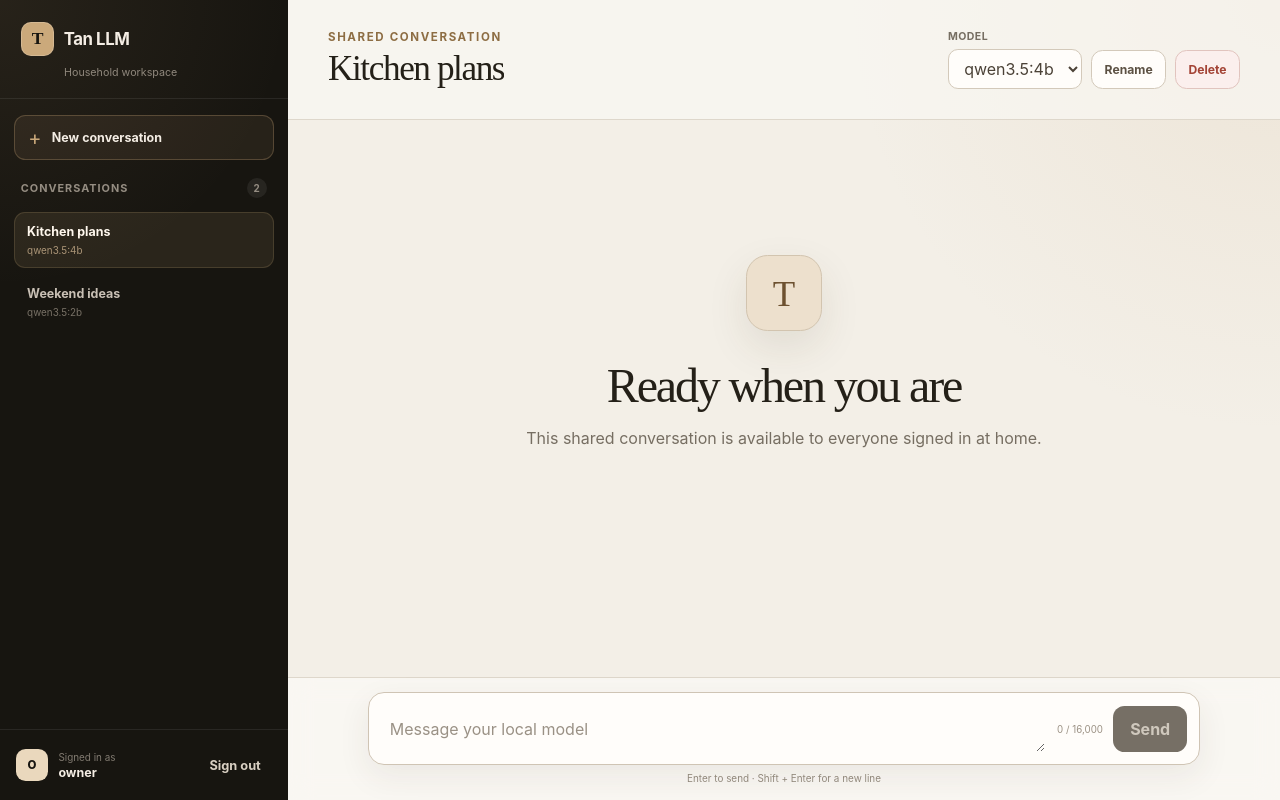
it: shared conversation management › stops the originating browser's active response
Expected: the heading "Ready when you are" is shown, [607,358,961,413]
Type "Start a response" into the text box labelled "Message" at coordinates (713, 729), box [381,705,1045,752]
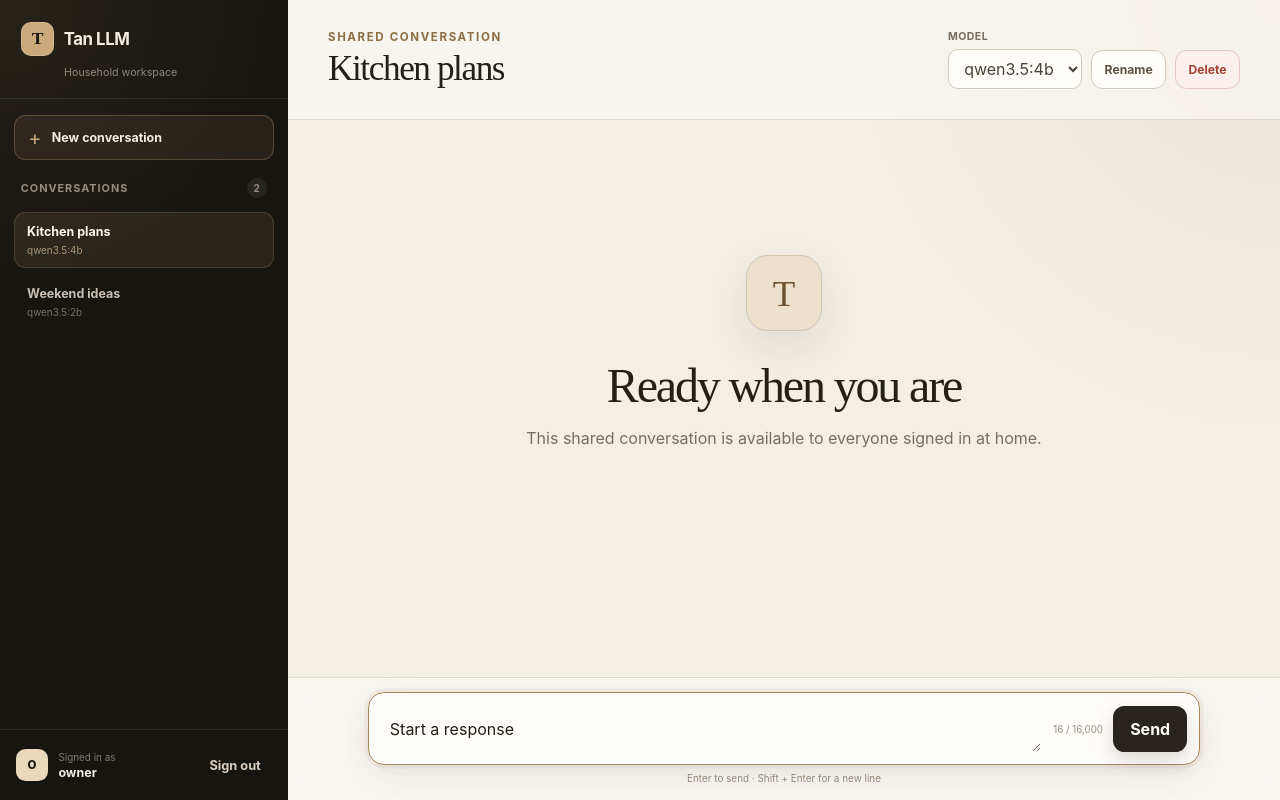
Click the button "Send" at coordinates (1150, 729), box [1113,706,1187,752]
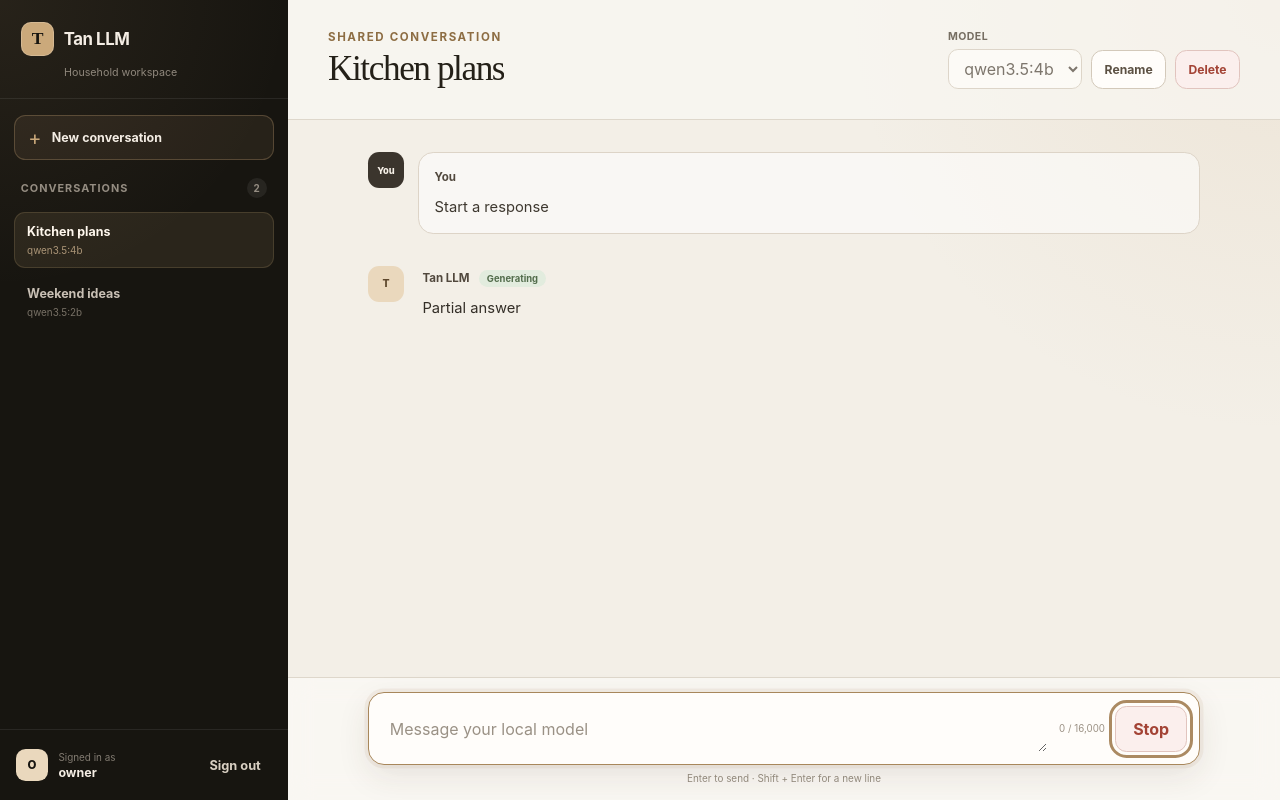
Result: the text "Partial answer" is shown at [422,299,521,317]
Click the button "Stop" at coordinates (1151, 729), box [1115,706,1187,752]
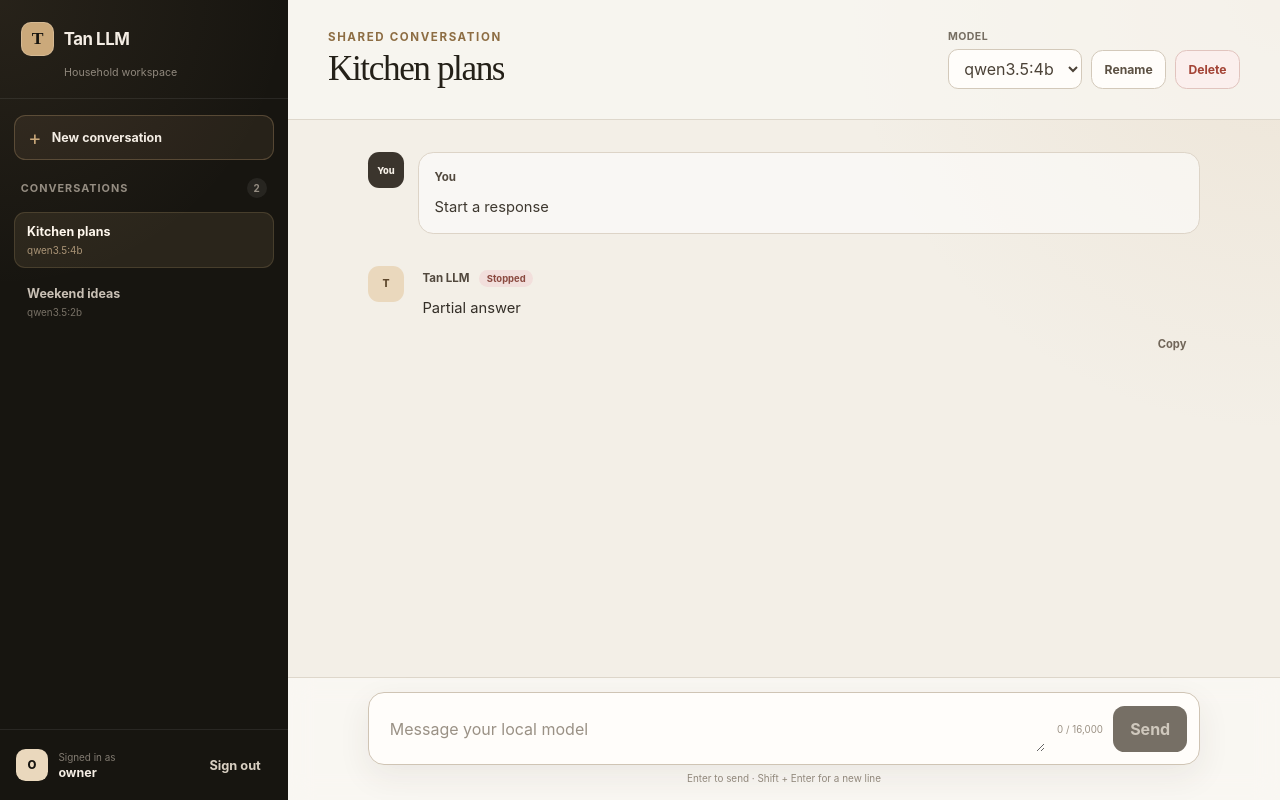
Result: the text "Stopped" is shown at [479,270,533,287]
